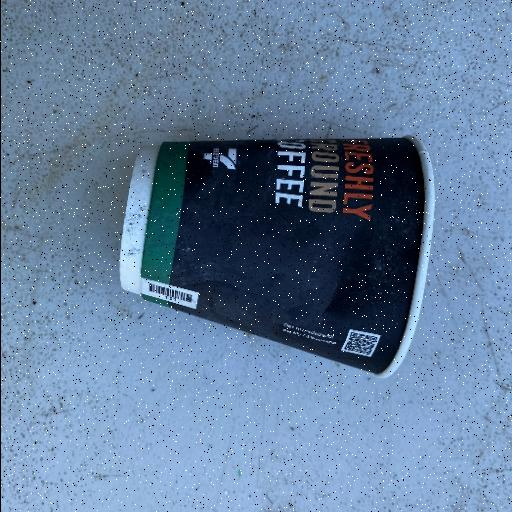Cardboard: (118, 133, 436, 379)
